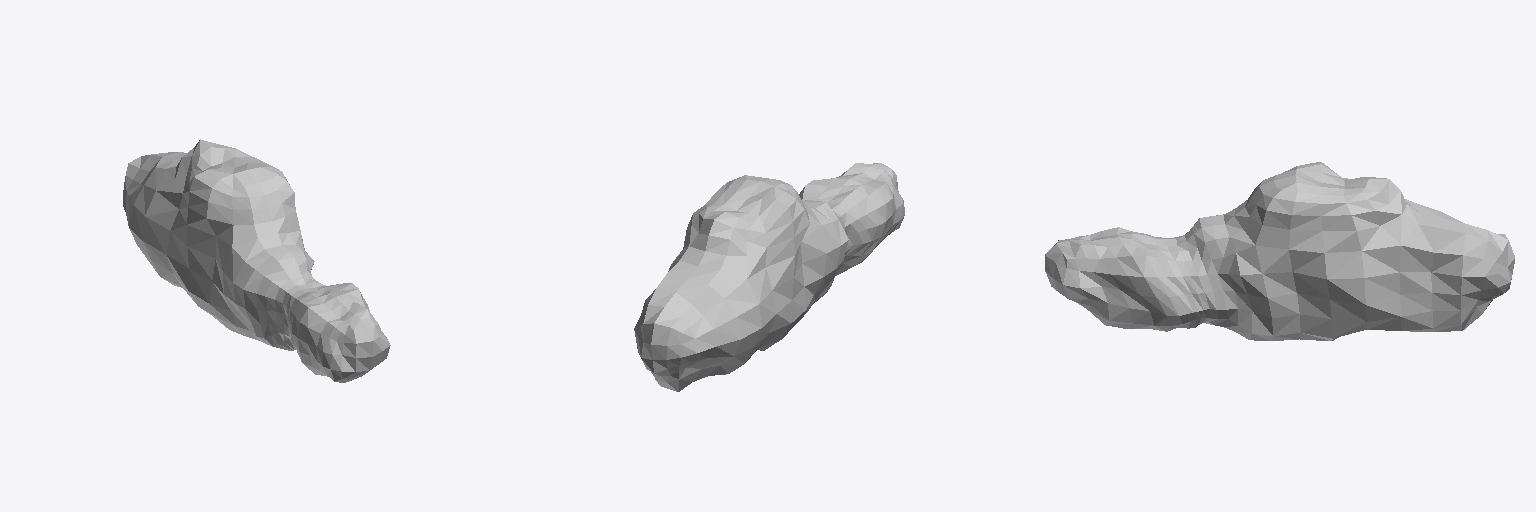
The model's file is cloud.obj.
The picture shows the model from 3 angles: view 1: azimuth 30°, elevation 25°; view 2: azimuth 150°, elevation 25°; view 3: azimuth 270°, elevation 25°; orthographic projection.
Visible parts, largest first — view 1: Cloud_Large; view 2: Cloud_Large; view 3: Cloud_Large.
Boxes of the visible parts, x1,y1,x2,y2 form: Cloud_Large: [123, 139, 390, 382]; Cloud_Large: [634, 163, 904, 391]; Cloud_Large: [1045, 162, 1514, 340].
Bounding box in the file's own units: 2.6 × 3.73 × 9.87.